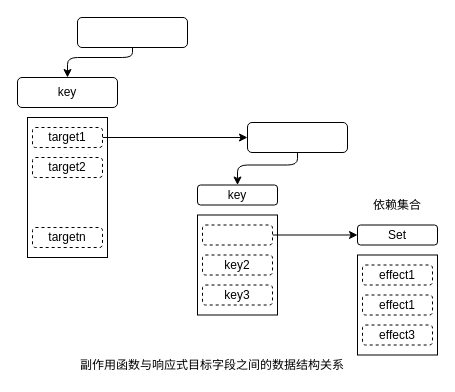
This 455x392 diagram has some shape labels left out. Each missing label, with the centre of its shape:
"key1" belongs at (x=237, y=234).
"Map" belongs at (x=297, y=137).
"WeakMap" belongs at (x=132, y=32).
